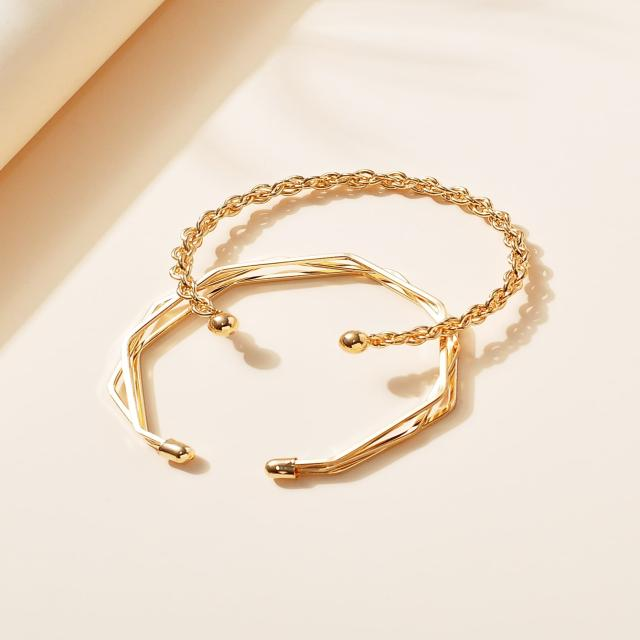bracelet: (62, 116, 590, 512)
